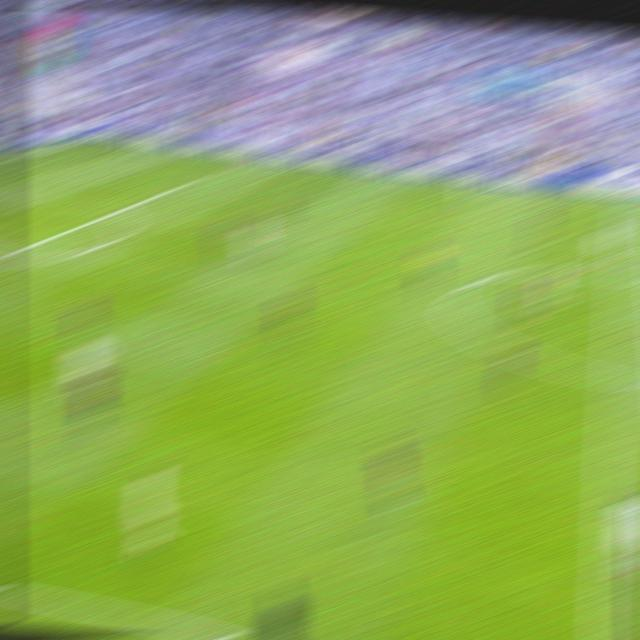corner: (81, 136, 104, 142)
halfcircle_bottom: (598, 363, 627, 390)
halfcircle_top: (606, 267, 633, 285)
midline_top_intersection: (613, 197, 636, 204)
top_arc_area_intersection: (101, 207, 124, 218)
